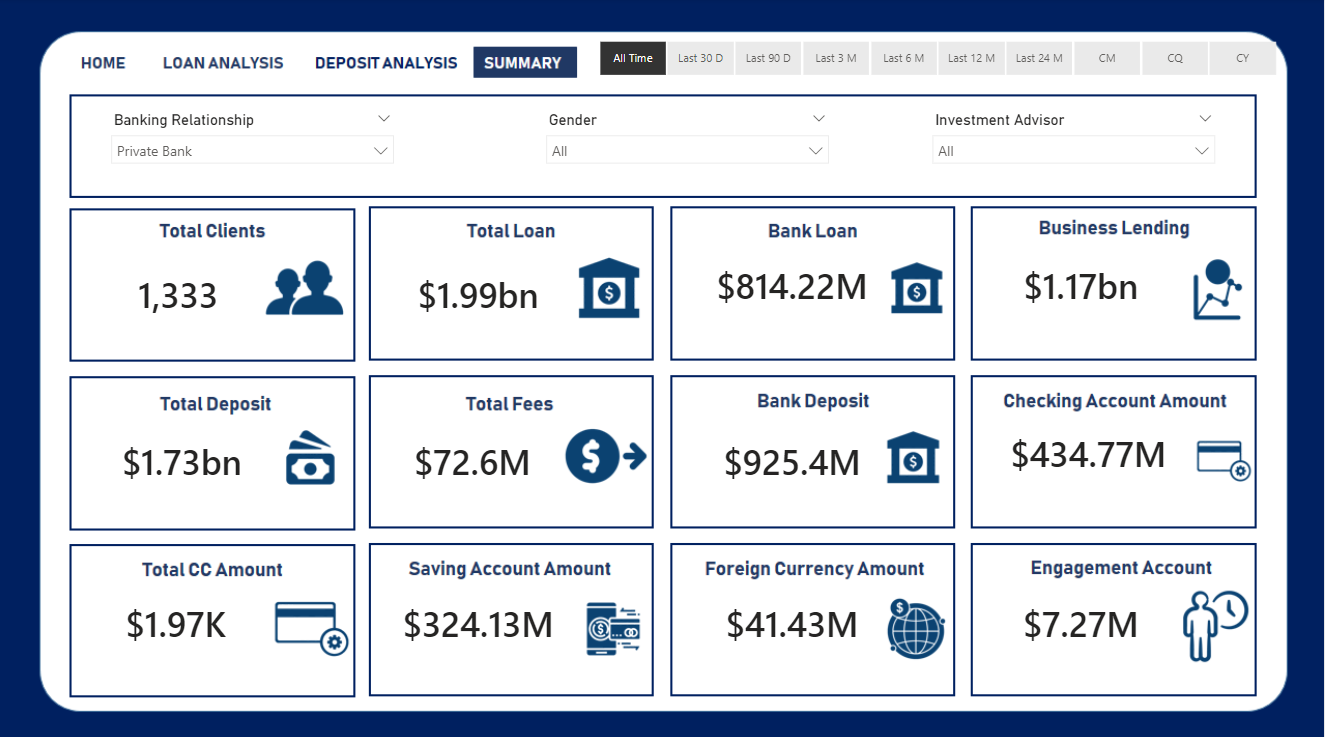

The dashboard page shown, as its layout file describes it:
{"tool":"powerbi","page":{"name":"Summary","canvas":[1280,720],"ordinal":3},"visuals":[{"type":"card","fields":{"Values":["DAX Measures.Engagment Length"]},"box":[946.3,546.4,198.2,114.9],"z":0},{"type":"card","fields":{"Values":["DAX Measures.Foreign Currency Account"]},"box":[667.2,546.4,198.2,114.9],"z":1000},{"type":"card","fields":{"Values":["DAX Measures.Bank Deposit"]},"box":[667.2,390.5,198.2,114.9],"z":2000},{"type":"card","fields":{"Values":["DAX Measures.Checking Accounts"]},"box":[953.4,382.3,198.2,114.9],"z":3000},{"type":"card","fields":{"Values":["DAX Measures.Bank Loan"]},"box":[667.2,220.5,198.2,114.9],"z":4000},{"type":"card","fields":{"Values":["DAX Measures.Business Lending"]},"box":[953.4,220.5,184.1,114.9],"z":5000},{"type":"card","fields":{"Values":["DAX Measures.Savings Account"]},"box":[360,546.4,207.6,114.9],"z":6000},{"type":"card","fields":{"Values":["DAX Measures.Total CC Amount"]},"box":[72.7,546.4,198.2,114.9],"z":7000},{"type":"card","fields":{"Values":["DAX Measures.Total Deposit"]},"box":[78.6,390.5,198.2,114.9],"z":8000},{"type":"card","fields":{"Values":["DAX Measures.Total Fees"]},"box":[365.9,390.5,184.1,114.9],"z":9000},{"type":"card","fields":{"Values":["DAX Measures.Total Clients"]},"box":[75,228.7,198.2,114.9],"z":10000},{"type":"card","fields":{"Values":["DAX Measures.Total Loan"]},"box":[365.9,228.7,195.8,114.9],"z":11000},{"type":"slicer","fields":{"Values":["Banking Relationship.Banking Relationship"]},"box":[98.5,104.3,292.9,75.7],"z":12000},{"type":"slicer","fields":{"Values":["Gender.Gender"]},"box":[518.9,104.3,292.9,75.7],"z":13000},{"type":"slicer","fields":{"Values":["Investment Advisor.Investment Advisor"]},"box":[891.3,104.3,292.9,75.7],"z":14000},{"type":"slicer","fields":{"Values":["Period.Name"]},"box":[555.2,34.6,702.1,46.6],"z":15000},{"type":"actionButton","box":[72.8,44.2,58.5,31],"z":16000},{"type":"actionButton","box":[306.9,44.7,119.4,31],"z":17000},{"type":"actionButton","box":[297.9,44.6,147.8,30.5],"z":18000},{"type":"actionButton","box":[157.1,44.6,125.5,30.5],"z":19000}]}

Visuals, with their boxes in screenshot pixels (x1, y1, x2, y2), scaled from the page's 1280x720 canvas onto the 1325x737 screenshot:
card - DAX Measures.Engagment Length: 980/559/1185/677
card - DAX Measures.Foreign Currency Account: 691/559/896/677
card - DAX Measures.Bank Deposit: 691/400/896/517
card - DAX Measures.Checking Accounts: 987/391/1192/509
card - DAX Measures.Bank Loan: 691/226/896/343
card - DAX Measures.Business Lending: 987/226/1177/343
card - DAX Measures.Savings Account: 373/559/588/677
card - DAX Measures.Total CC Amount: 75/559/280/677
card - DAX Measures.Total Deposit: 81/400/287/517
card - DAX Measures.Total Fees: 379/400/569/517
card - DAX Measures.Total Clients: 78/234/283/352
card - DAX Measures.Total Loan: 379/234/581/352
slicer - Banking Relationship.Banking Relationship: 102/107/405/184
slicer - Gender.Gender: 537/107/840/184
slicer - Investment Advisor.Investment Advisor: 923/107/1226/184
slicer - Period.Name: 575/35/1302/83
actionButton: 75/45/136/77
actionButton: 318/46/441/77
actionButton: 308/46/461/77
actionButton: 163/46/293/77
